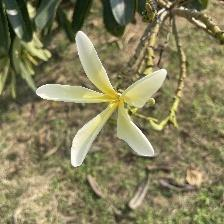champaka: (35, 29, 170, 169)
